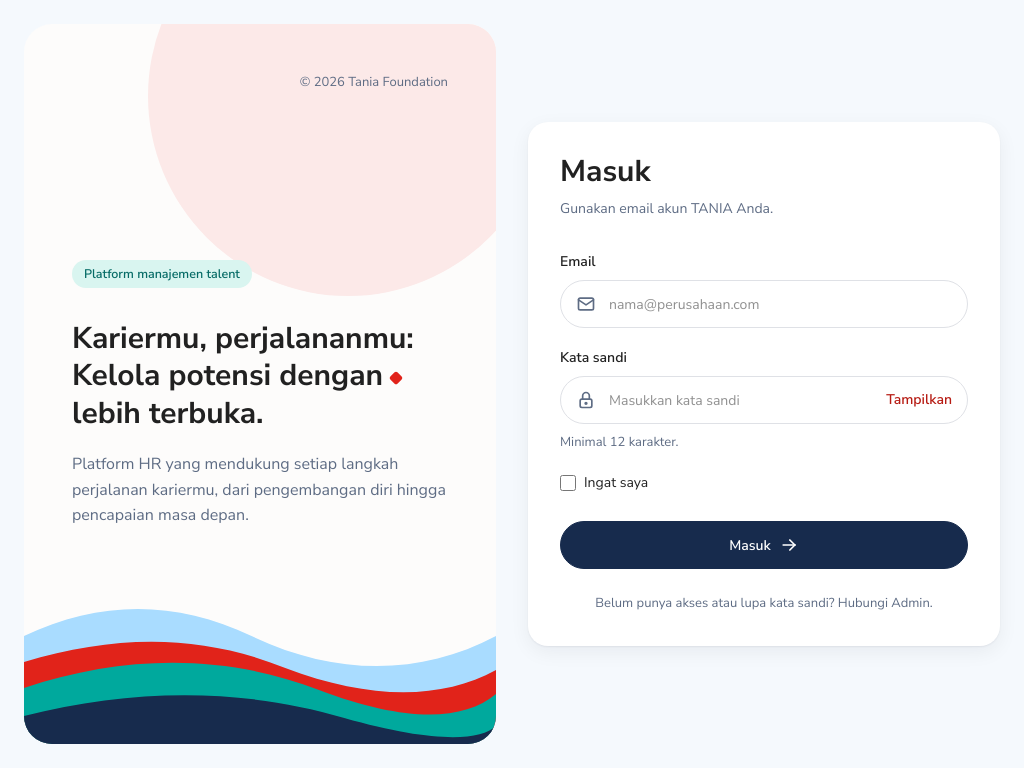
Test: jalur email + kata sandi (FR-002 — tidak boleh teregresi) › shows an alert and keeps the session empty when the mutation fails
Type "ada@tania.id" into the field labelled "Email" at [764, 304], box x1=560 y1=280 x2=968 y2=328
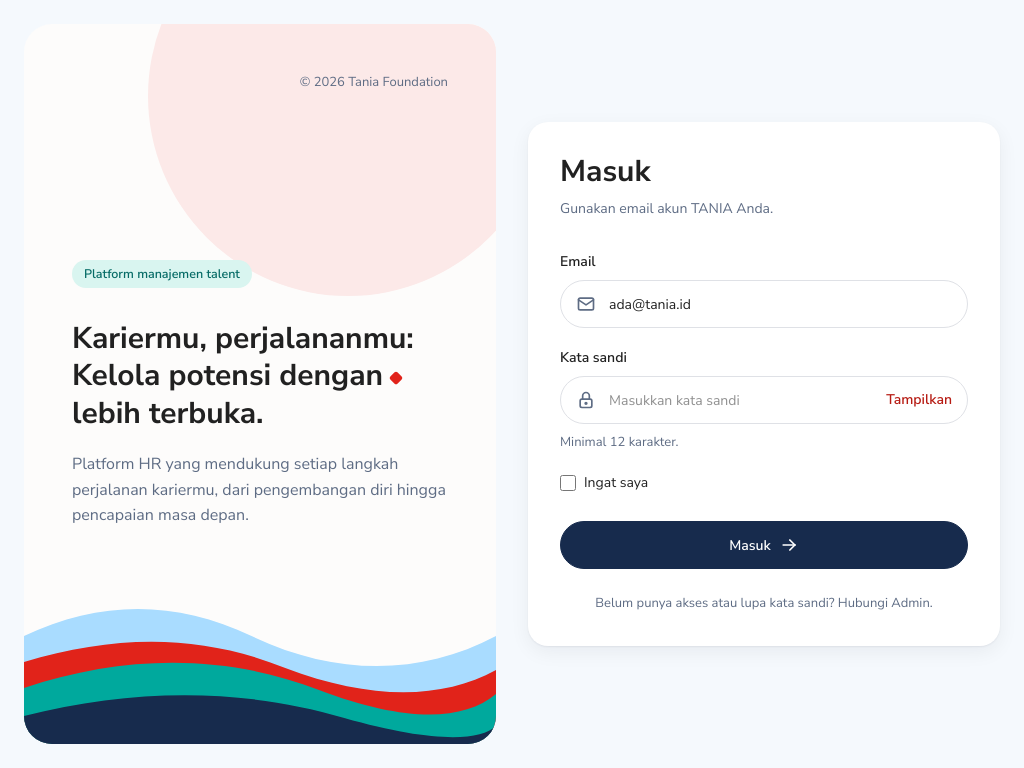
Type "wrong" into the password field labelled "Kata sandi" at [764, 400], box x1=560 y1=376 x2=968 y2=424
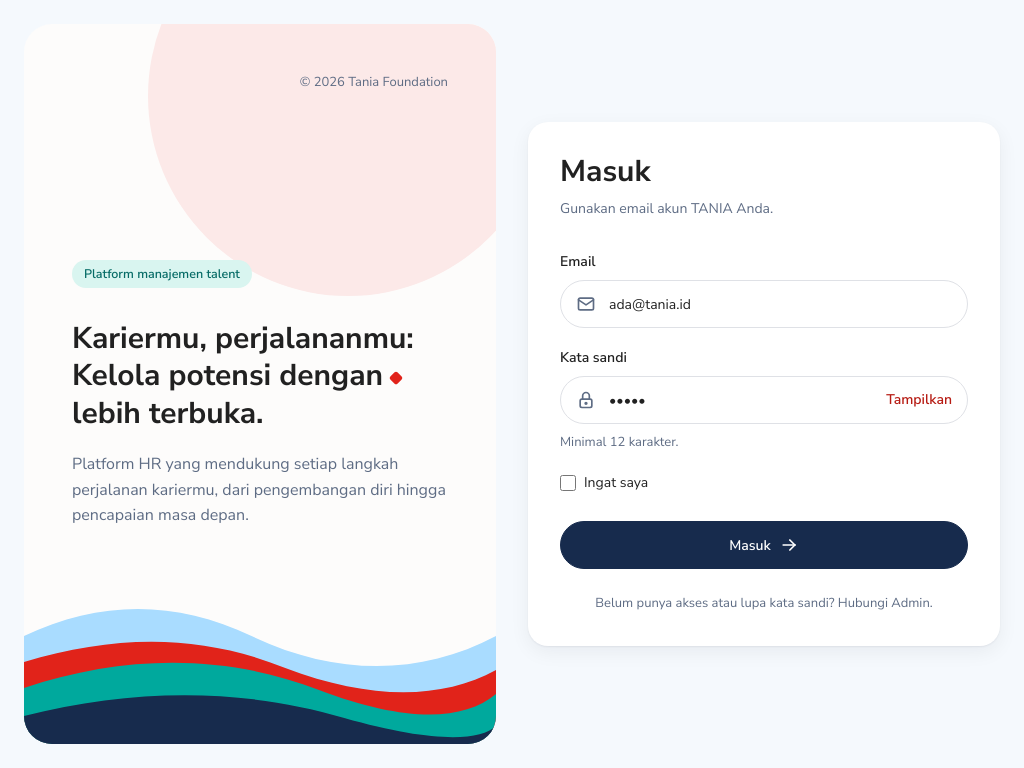
Click the button "Masuk" at [764, 545], box x1=560 y1=521 x2=968 y2=569
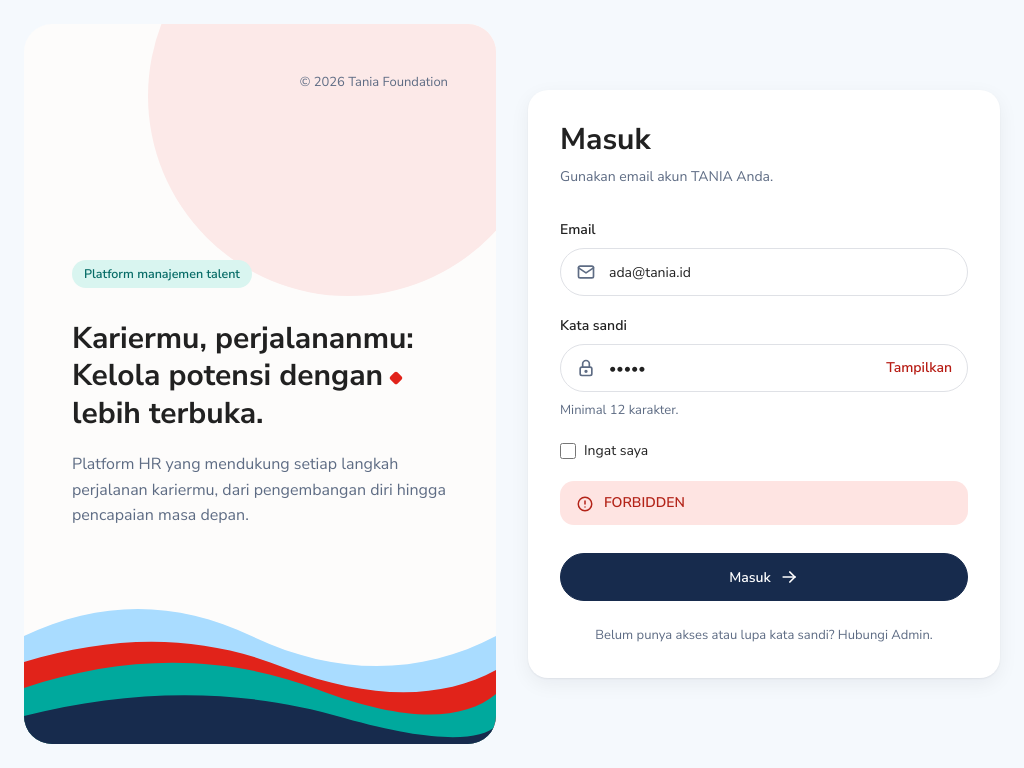
Expected: the message reads "FORBIDDEN", x1=604 y1=493 x2=685 y2=512
